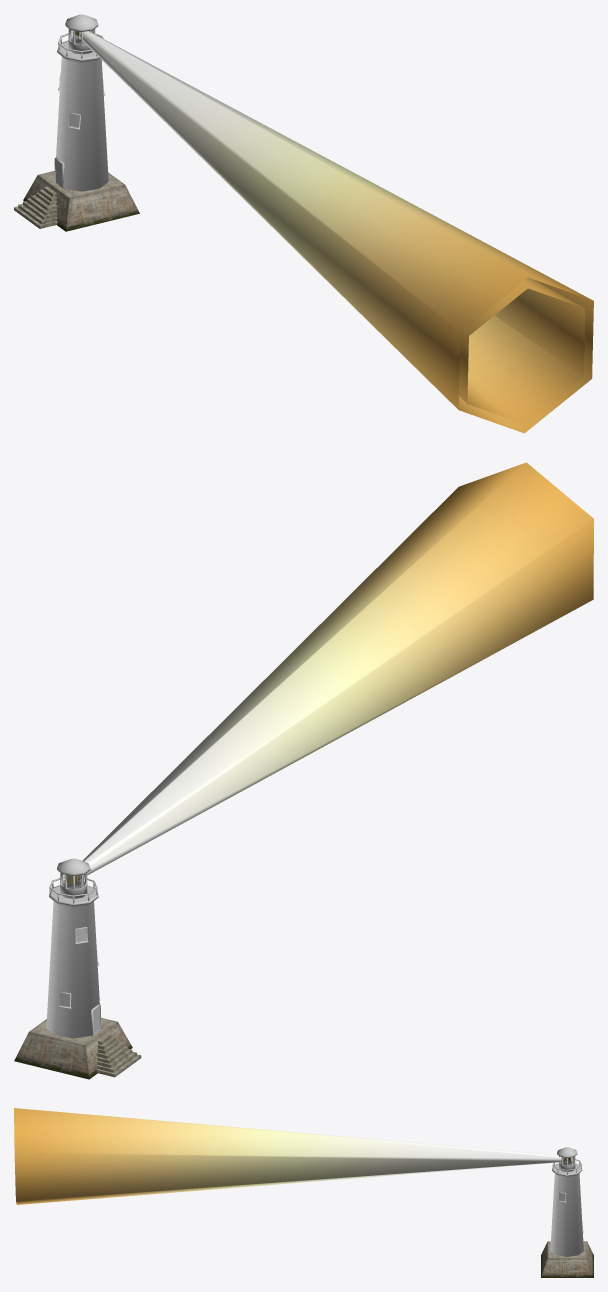
Rendered from LightHouse.FBX.
3 views of the same model, one above another, from view 1: azimuth 30°, elevation 25°; view 2: azimuth 150°, elevation 25°; view 3: azimuth 270°, elevation 25° (orthographic). The views are drawn at different scales.
Parts seen in each view (by area): view 1: Light_beam, Lighthouse; view 2: Light_beam, Lighthouse; view 3: Light_beam, Lighthouse.
Boxes of the visible parts, x1,y1,x2,y2 form: Light_beam: (80, 31, 593, 433); Lighthouse: (14, 14, 139, 231); Light_beam: (82, 462, 593, 877); Lighthouse: (14, 858, 141, 1079); Light_beam: (14, 1108, 563, 1204); Lighthouse: (541, 1147, 593, 1277).
Bounding box in the file's own units: 1355 × 2474 × 8191.
